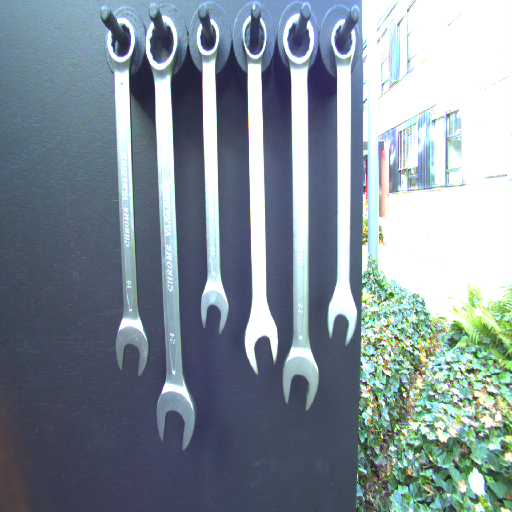bottom: (154, 381, 196, 453), (281, 345, 321, 413), (112, 315, 150, 381), (244, 310, 279, 376), (326, 288, 357, 349), (198, 280, 231, 334)
top: (144, 17, 182, 74), (281, 11, 316, 69), (104, 15, 137, 67), (240, 15, 269, 66), (330, 17, 358, 65), (194, 19, 223, 62)
